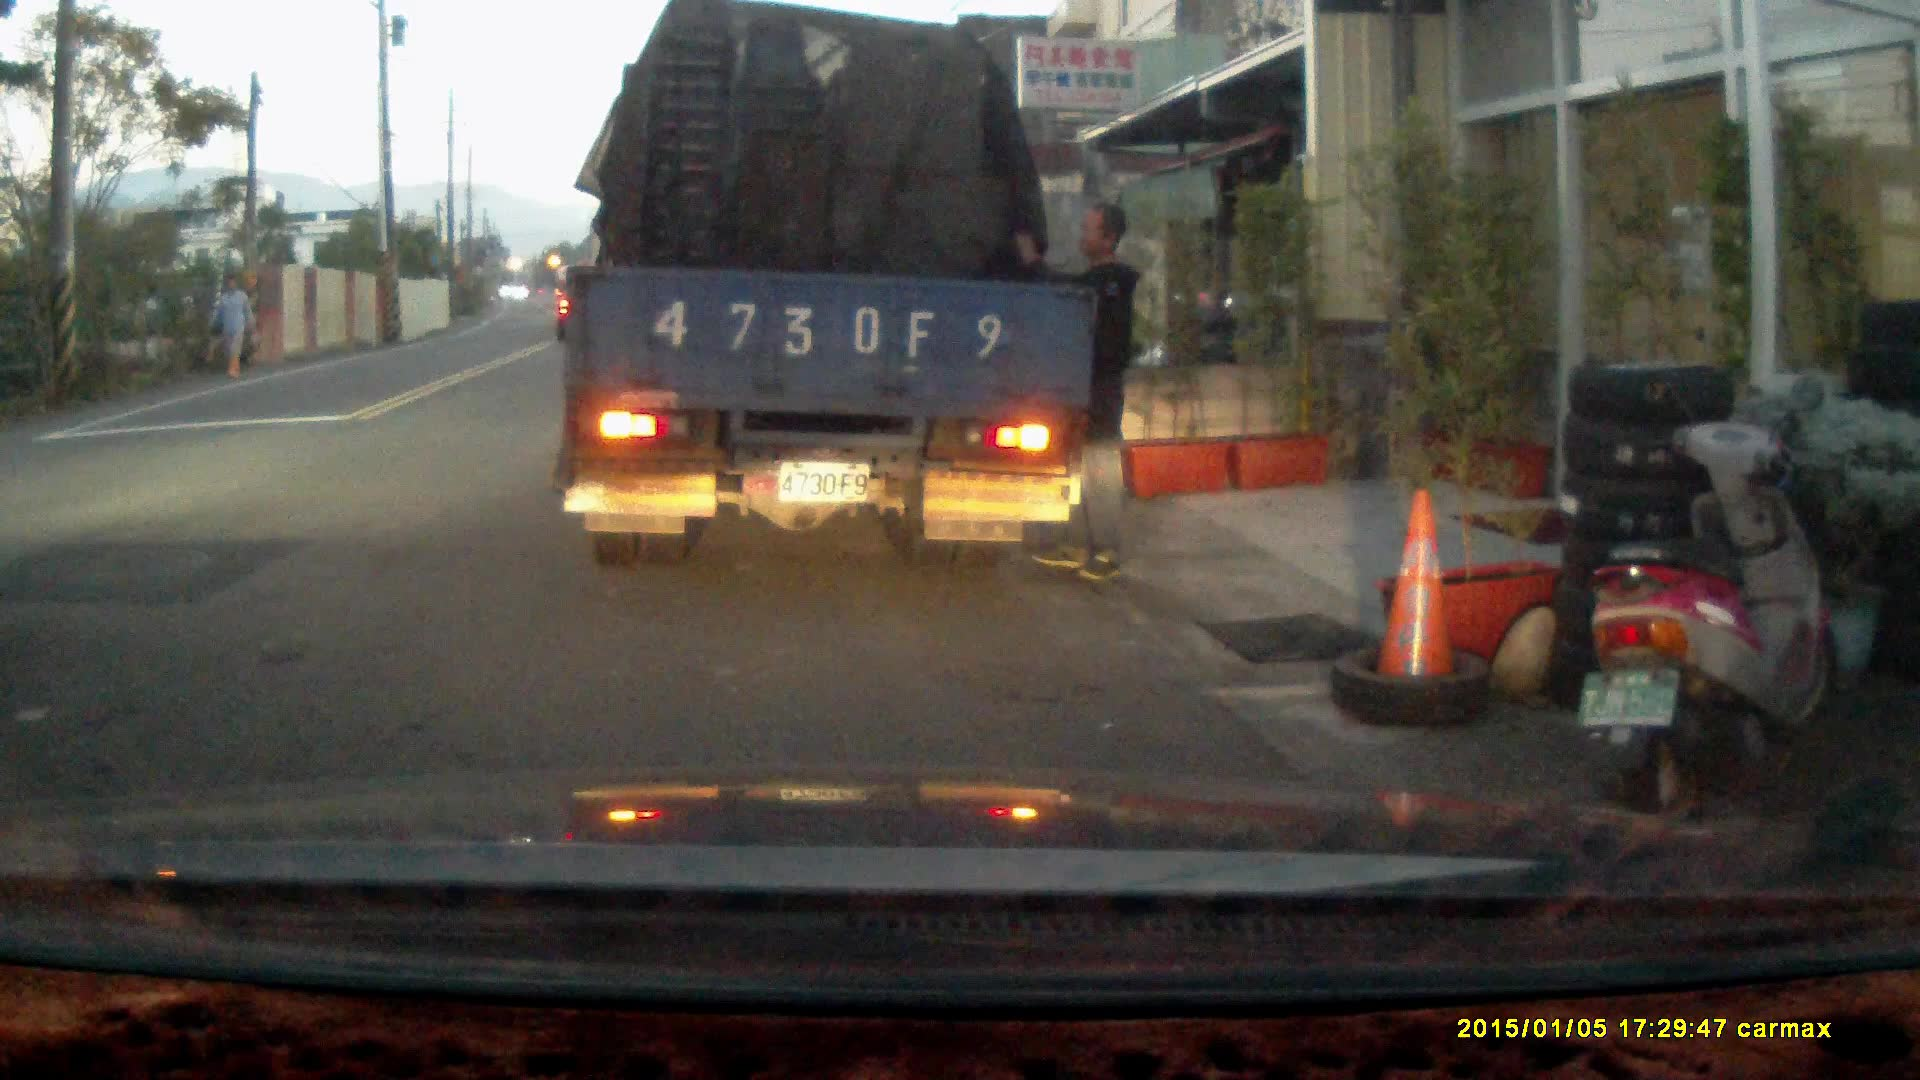pedestrian: (1006, 200, 1136, 580), (212, 270, 252, 381)
vehicle: (565, 23, 1097, 572)
